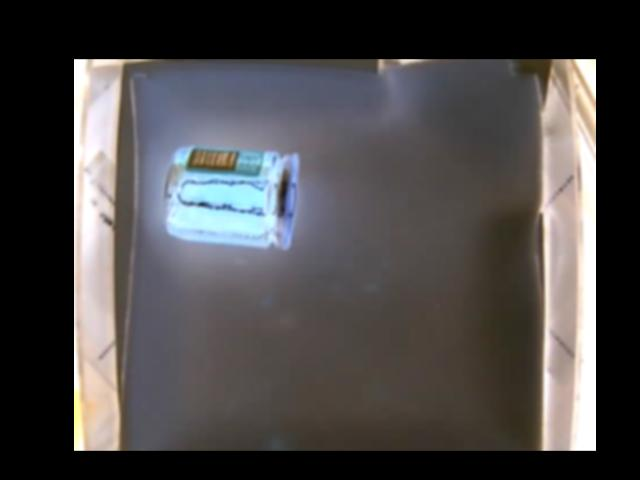Bottle: (163, 145, 299, 250)
